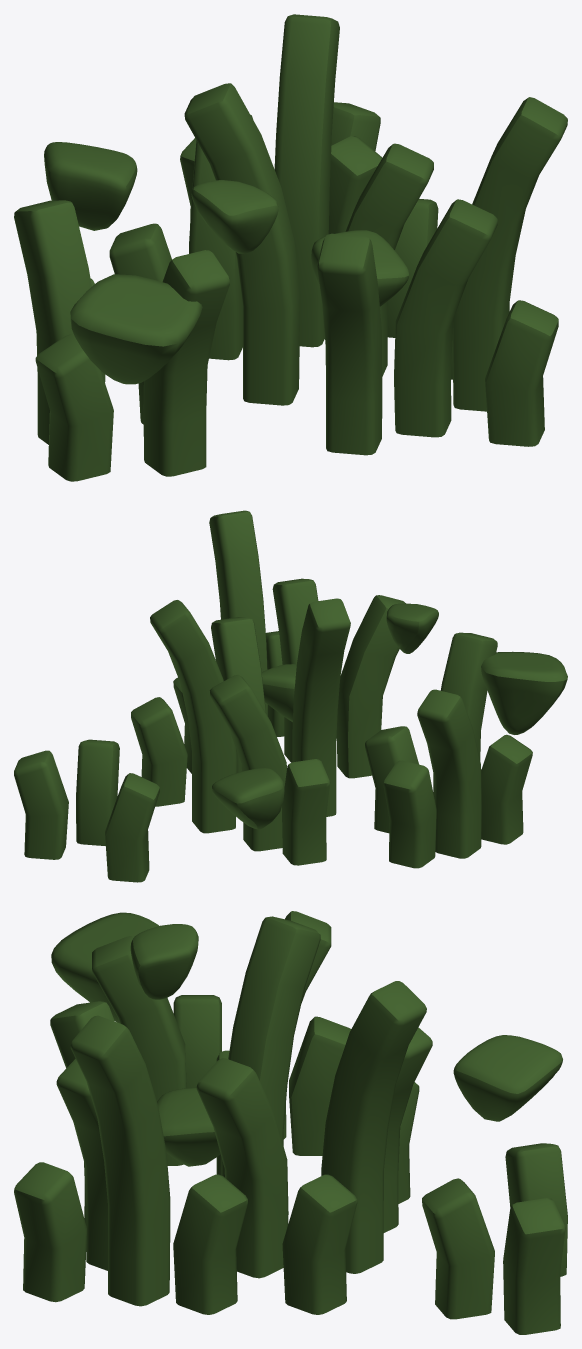
The model's file is SM_GrassClump_02.glb.
3 renders of one model, top to bottom at view 1: azimuth 30°, elevation 25°; view 2: azimuth 150°, elevation 25°; view 3: azimuth 270°, elevation 25°, orthographic. The views are drawn at different scales.
Parts seen in each view (by area): view 1: SM_GrassClump_02; view 2: SM_GrassClump_02; view 3: SM_GrassClump_02.
Part boxes in pixels (box(x1,y1,x2,y2)): SM_GrassClump_02: box(14, 14, 567, 481); SM_GrassClump_02: box(14, 510, 567, 882); SM_GrassClump_02: box(14, 911, 567, 1334).
Bounding box in the file's own units: 1.8 × 0.9896 × 1.73.
